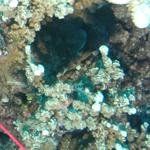alive: (1, 7, 146, 148)
